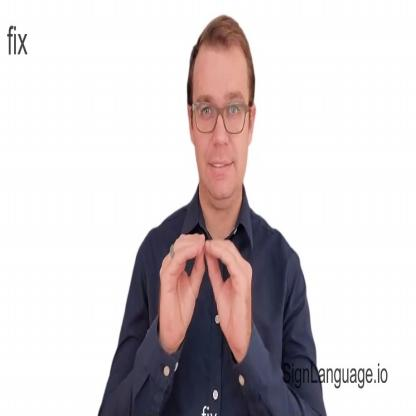Fix: (146, 212, 256, 360)
